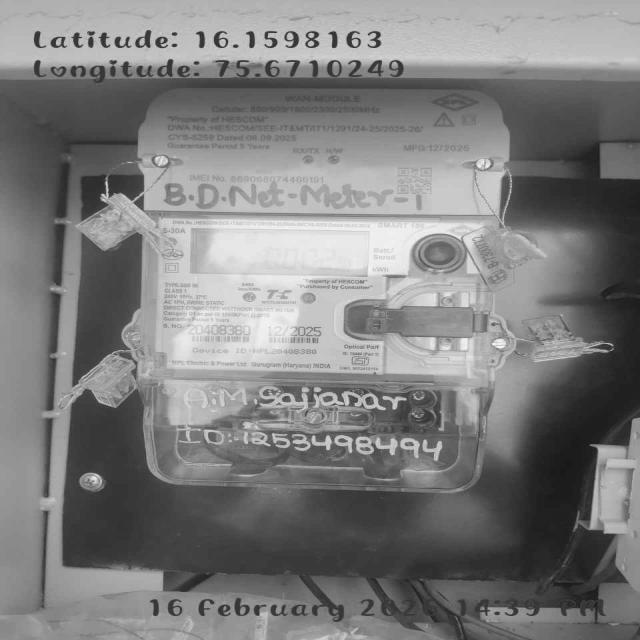meter: (145, 89, 505, 382)
